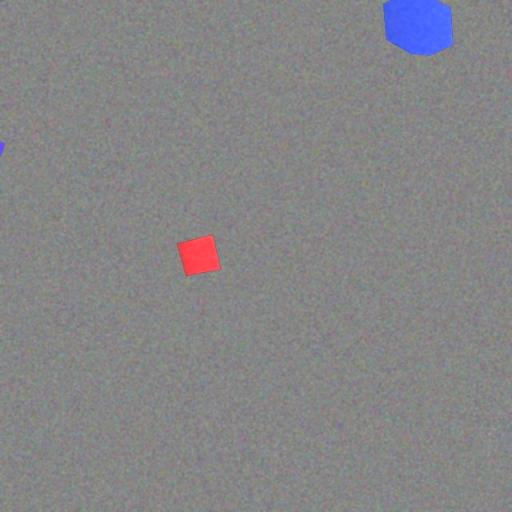RED_SQUARE: (176, 234, 222, 276)
